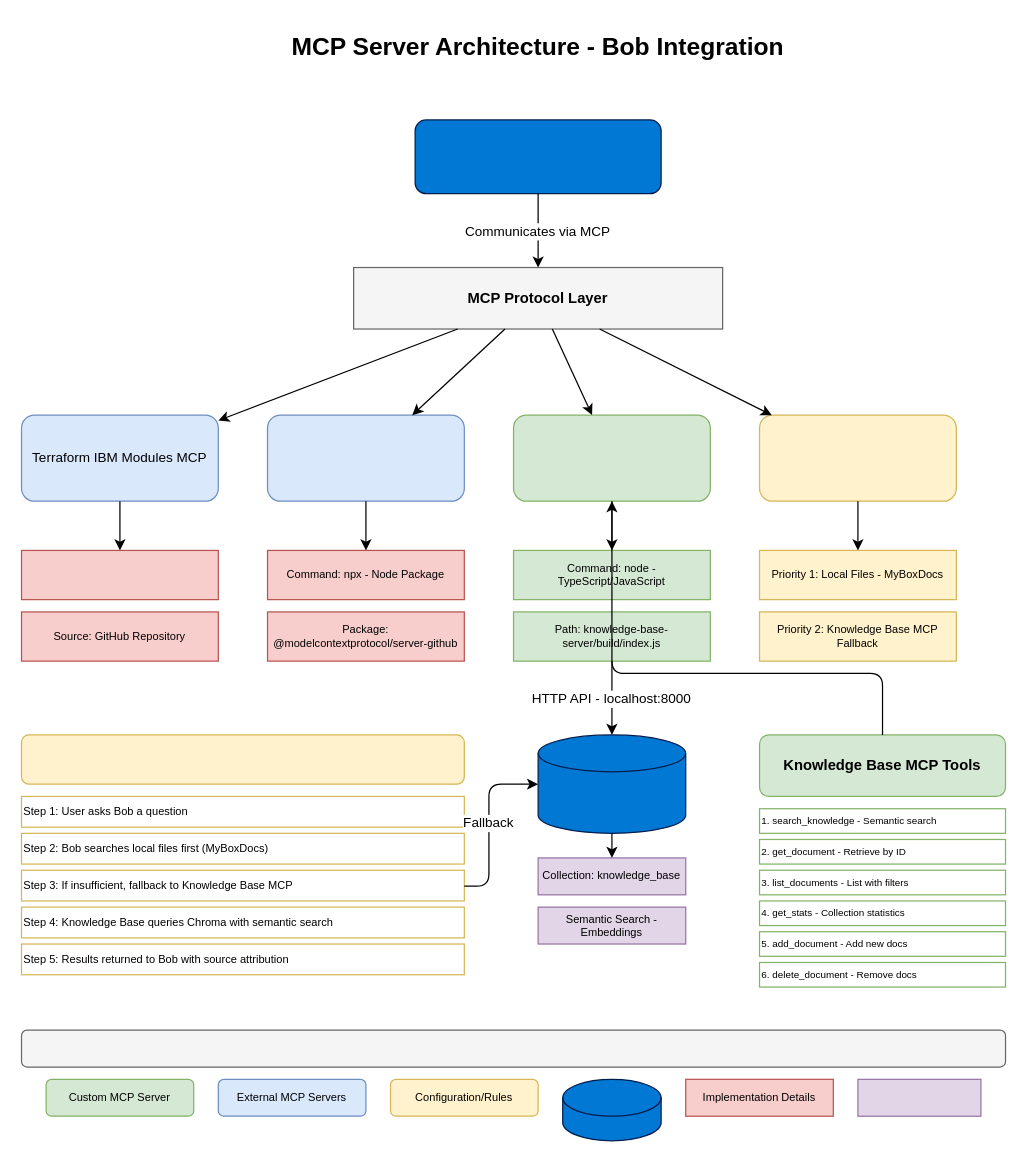
This 1027x1162 diagram has some shape labels left out. Each missing label, with the centre of its shape:
"Backend Services" goes at pixel 611 1109.
"Bob AI Assistant" goes at pixel 537 156.
"Chroma Vector Database" goes at pixel 611 783.
"Command: uvx - Python Package" goes at pixel 119 574.
"Data Storage" goes at pixel 919 1097.
"GitHub MCP Server" goes at pixel 365 457.
"Information Retrieval Flow" goes at pixel 242 759.
"Knowledge Base MCP Server - Custom" goes at pixel 611 457.
"Legend" goes at pixel 513 1048.
"Search Priority Rules" goes at pixel 857 457.
